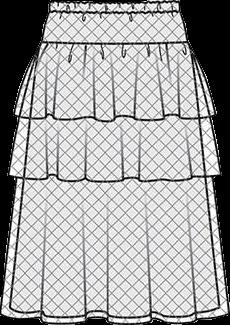Hemline: (0, 309, 229, 324), (6, 171, 221, 183), (12, 111, 218, 122)
Waistline: (39, 38, 187, 45), (48, 8, 178, 15), (49, 0, 178, 5)
